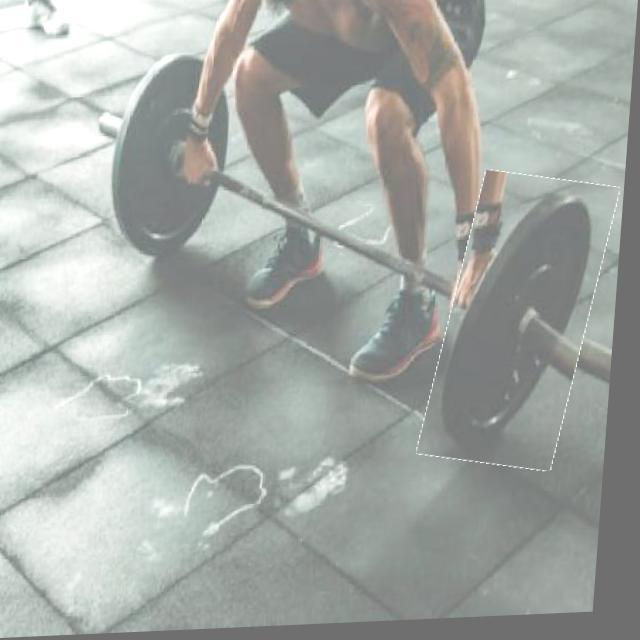barbell: (434, 176, 613, 477)
